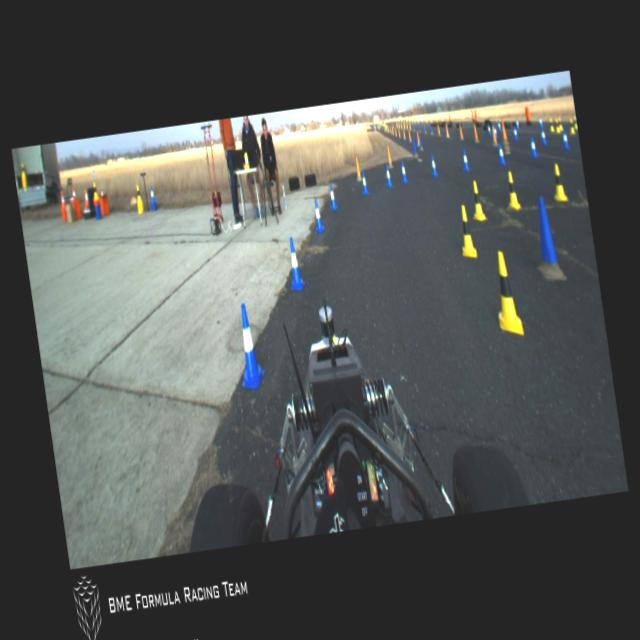blue_cone: (230, 302, 266, 391), (284, 237, 306, 291), (311, 198, 325, 233), (327, 184, 338, 212), (496, 139, 506, 167), (360, 170, 370, 196), (460, 148, 470, 172), (528, 134, 538, 158), (429, 152, 438, 178), (384, 165, 392, 188), (400, 160, 408, 182), (148, 184, 156, 204), (540, 125, 548, 145), (562, 130, 569, 148), (492, 124, 498, 139), (486, 123, 492, 136), (538, 116, 543, 128), (498, 120, 502, 134), (514, 127, 518, 140), (516, 118, 520, 129)
orange_cone: (83, 190, 91, 210), (58, 190, 66, 210), (71, 187, 78, 204)
unknown_cone: (528, 196, 567, 286), (353, 154, 363, 182), (500, 120, 510, 148), (385, 145, 394, 168), (490, 124, 497, 144), (411, 138, 418, 157), (473, 125, 479, 143), (418, 134, 424, 150), (458, 124, 464, 140), (415, 130, 420, 146), (445, 124, 450, 138), (428, 123, 434, 134), (436, 123, 441, 136), (393, 126, 398, 138), (408, 130, 412, 143), (402, 128, 406, 140), (423, 124, 427, 134), (418, 124, 421, 134), (398, 128, 400, 137)
yellow_cone: (489, 250, 524, 338), (456, 203, 478, 260), (468, 178, 488, 224), (503, 171, 521, 211), (550, 163, 568, 203), (90, 179, 99, 201), (134, 182, 142, 204), (548, 116, 556, 134), (568, 116, 576, 134), (555, 118, 561, 134), (20, 163, 26, 179), (558, 115, 563, 131), (573, 116, 577, 130)
